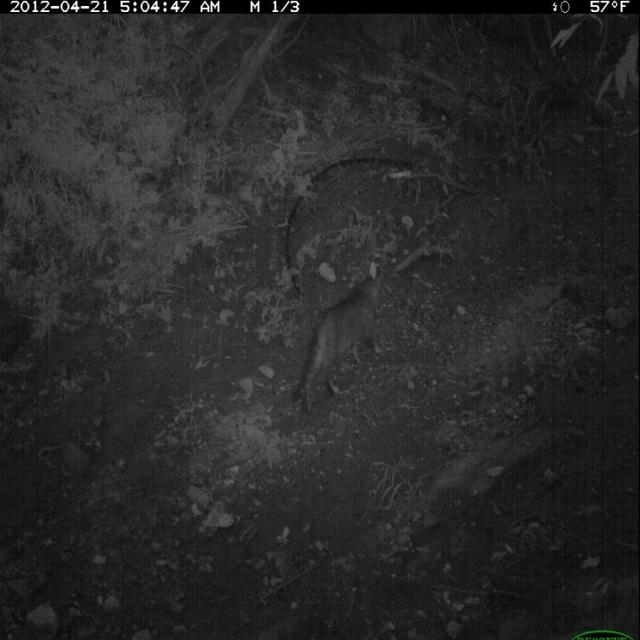cat: (285, 257, 394, 424)
